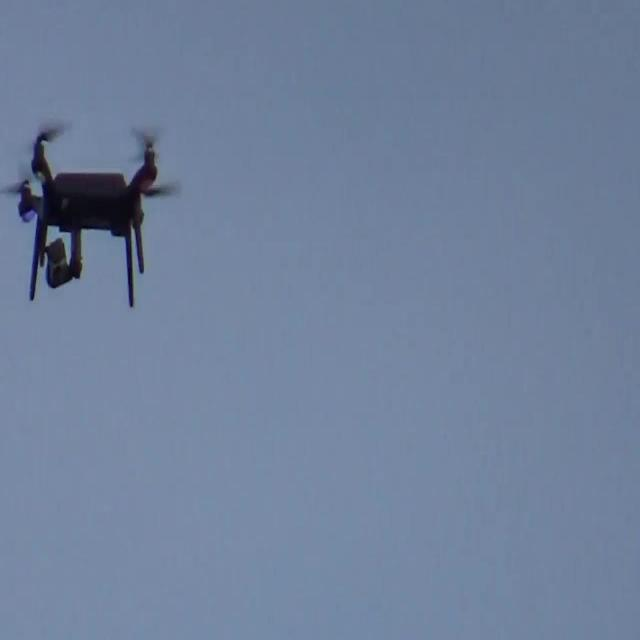UAV: (0, 124, 180, 308)
